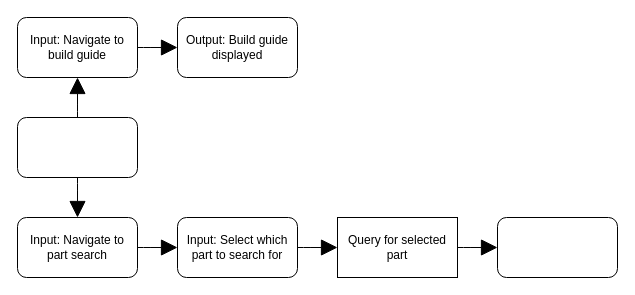
Some shapes in this 635 by 295 pixel diagram are drawn without their labels. Here are the shapes that lost their labels. From the top down, the centre of each, then its label:
At (77,147): "Input: Navigate to website".
At (557,247): "Output: Part data to user".
